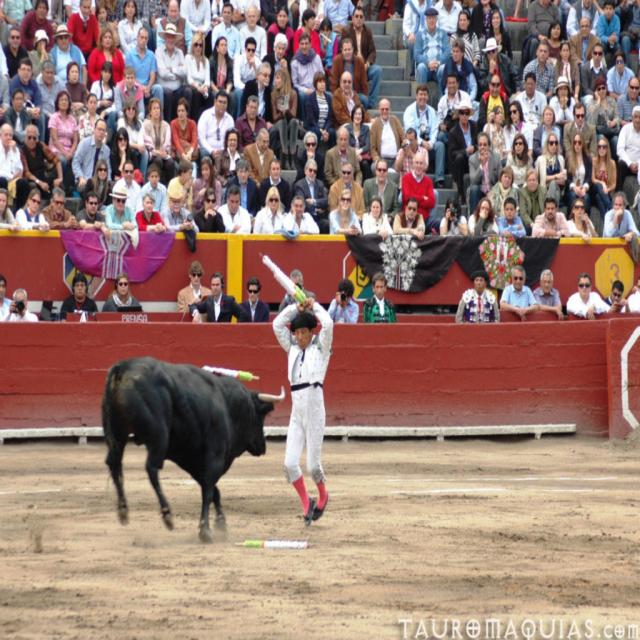Bull: (99, 354, 282, 541)
